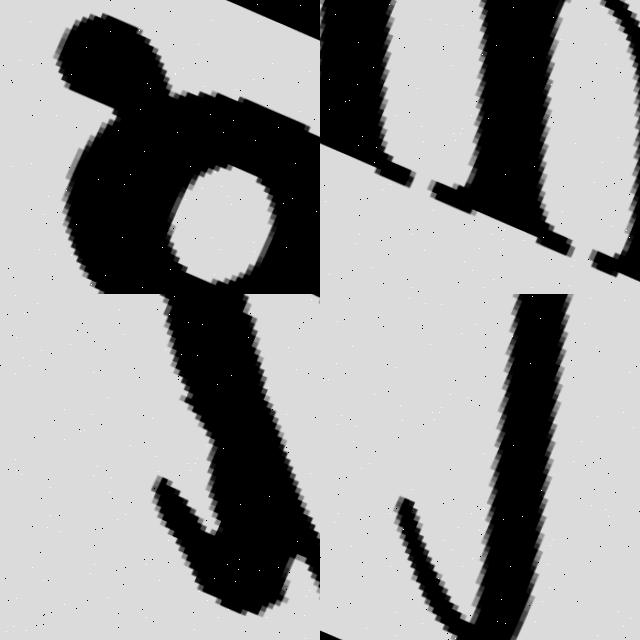A: (0, 294, 320, 640)
G: (0, 0, 320, 294)
L: (326, 294, 640, 640)
M: (320, 0, 640, 294)
